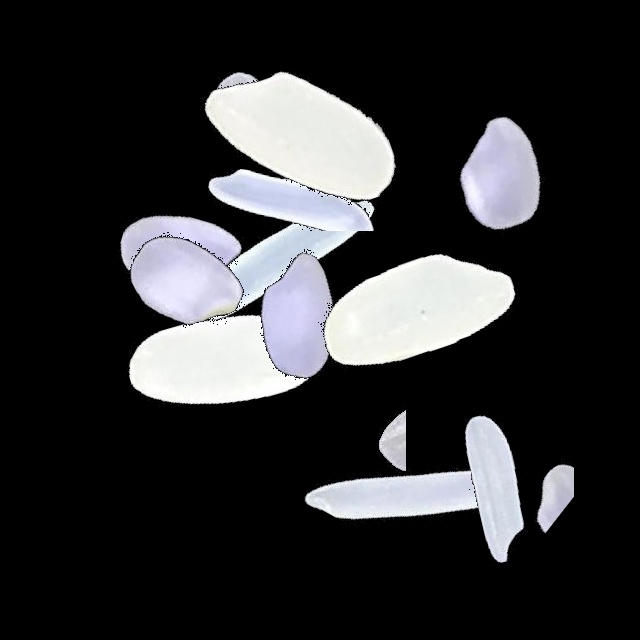Broken: (173, 79, 423, 231), (136, 12, 386, 121), (469, 353, 574, 603), (323, 299, 406, 549), (78, 109, 155, 359)
Full: (97, 237, 347, 487), (163, 133, 413, 383), (52, 127, 302, 377), (376, 52, 626, 302), (173, 193, 423, 443), (290, 181, 540, 431), (280, 365, 530, 615), (178, 14, 428, 264), (370, 361, 620, 611), (57, 154, 307, 404)
